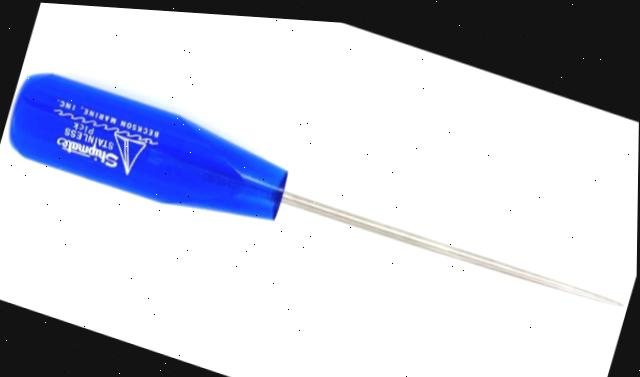ice pick: (0, 60, 637, 348)
